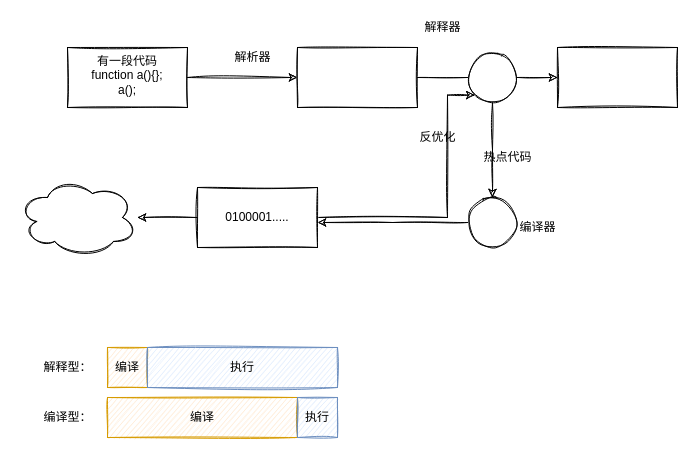
Image size: 695x455. Some labels were removed from this diagram. The shapes that lost their labels are listed below. From the top down, each one's centre as x and y in pixels, then its label:
the point at 357,77: 中间代码
the point at 617,77: 输出结果
the point at 77,217: 输出
